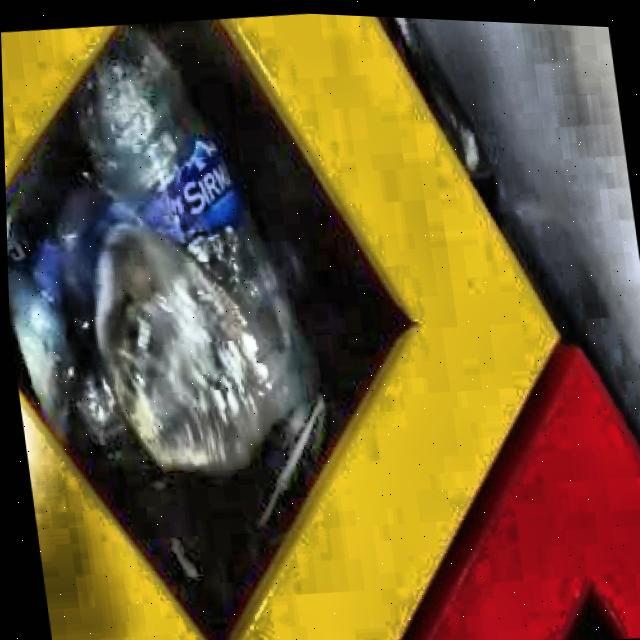plastic: (6, 23, 308, 470)
